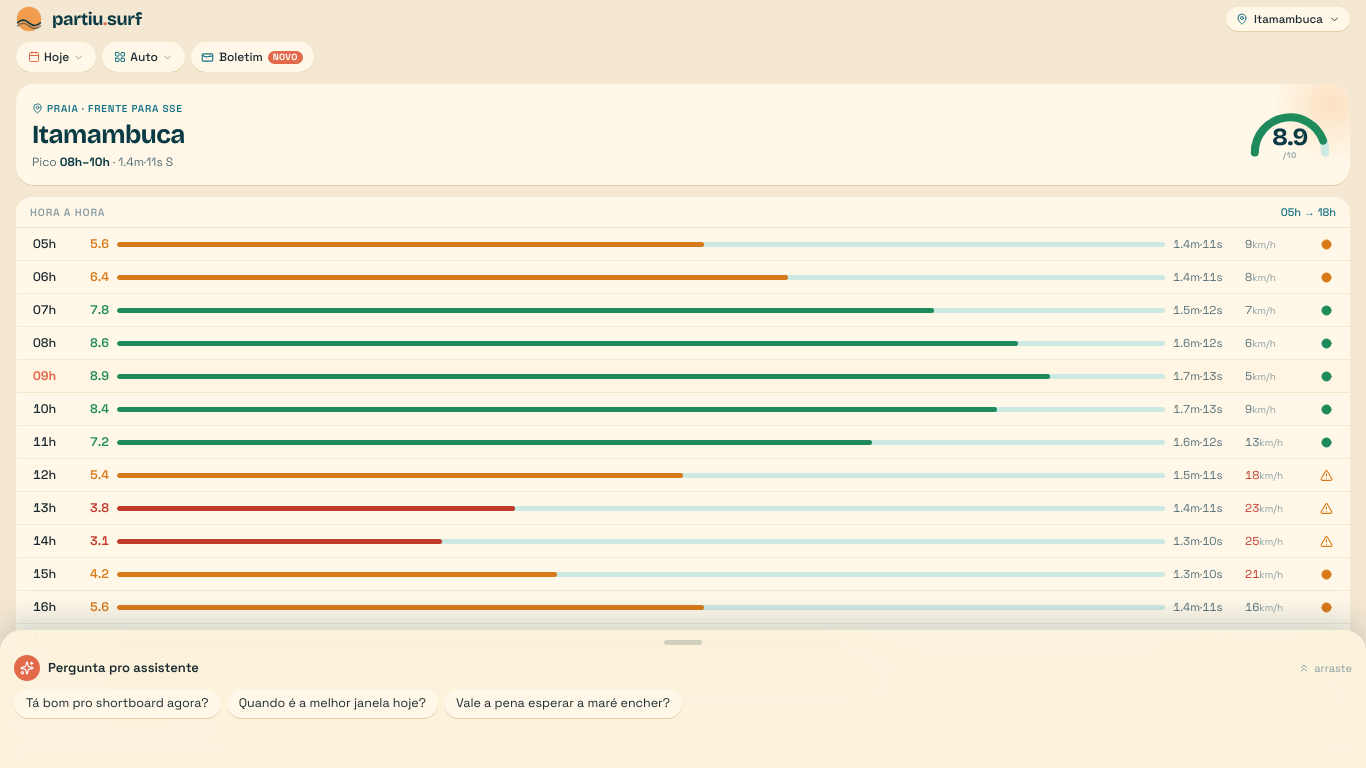
Test: <Mobile /> chat › renders an amber rate-limit error in the full thread on 429
Click the button "Tá bom pro shortboard agora?".
click(117, 703)  # box [14,689,221,718]
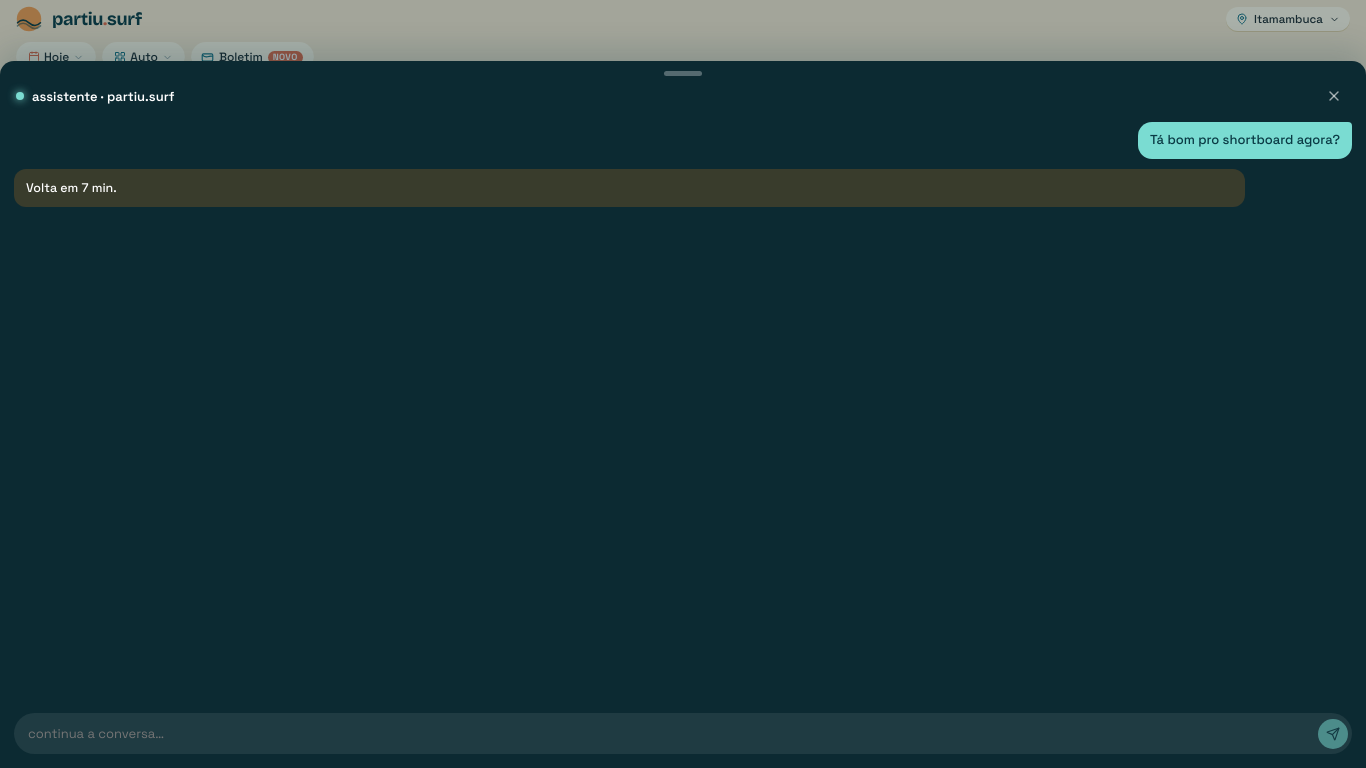
Now the text with test id "chat-error-rate_limit" reads "Volta em 7 min.", box [26,180,117,196]
